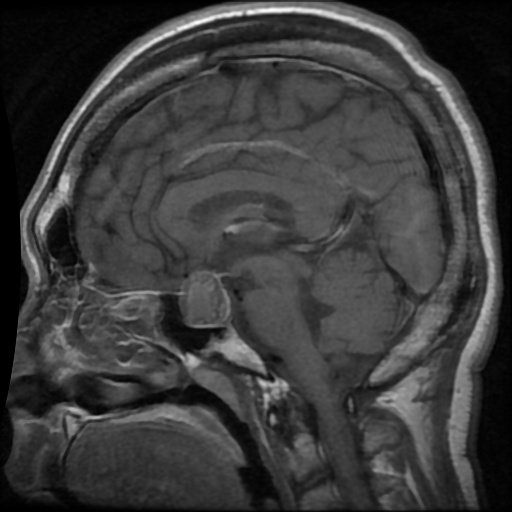pituitary: (178, 272, 230, 330)
